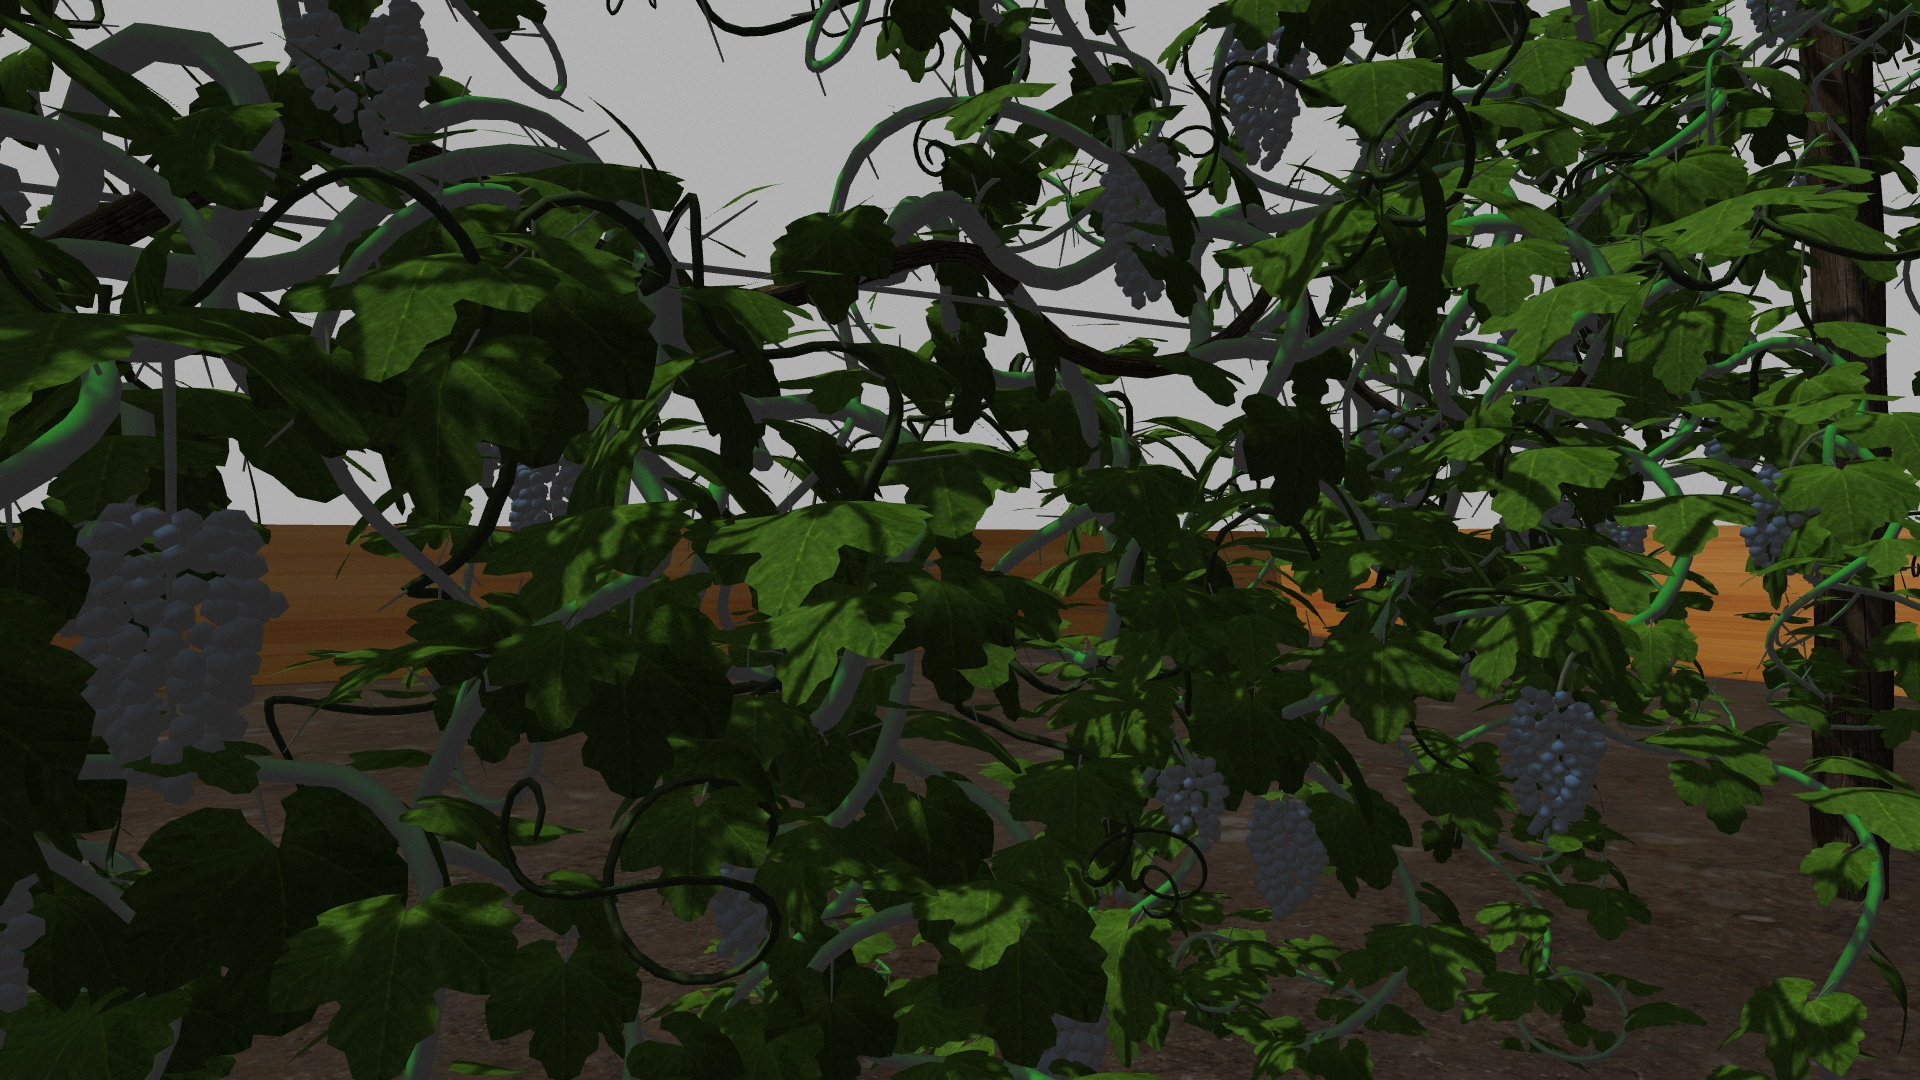grape: (70, 498, 290, 806), (294, 8, 442, 173), (1499, 683, 1609, 841), (1098, 144, 1192, 309), (1220, 34, 1305, 175), (1242, 793, 1331, 924), (1155, 750, 1232, 858)
